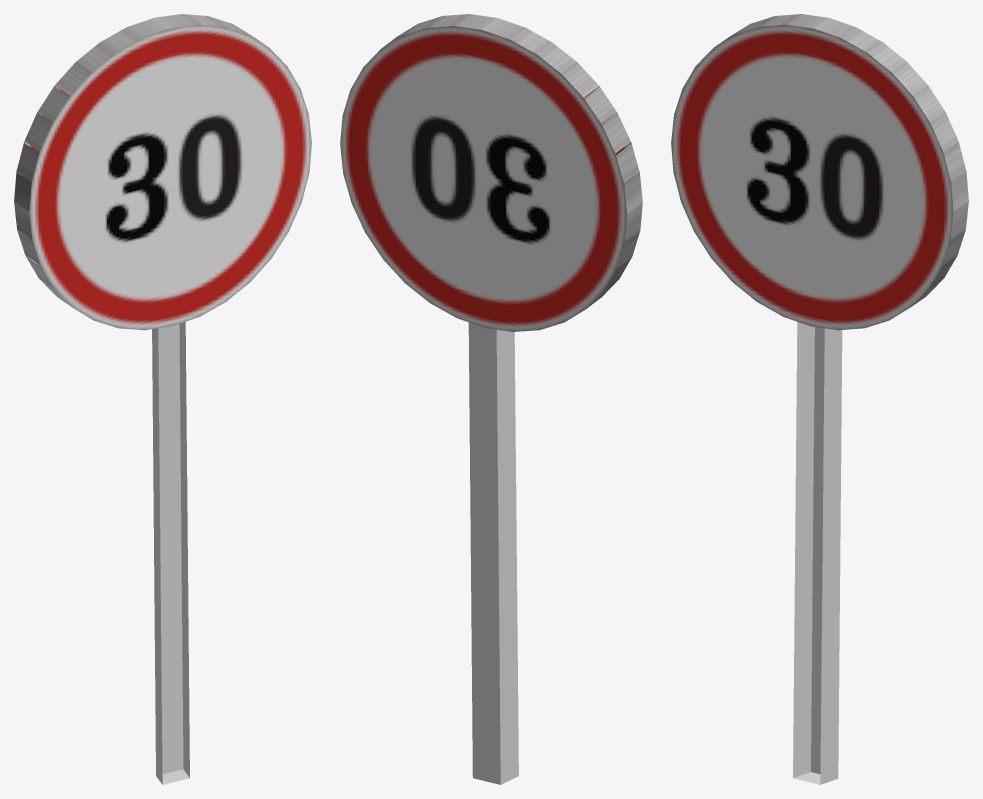
3 renders of one model, left to right at view 1: azimuth 30°, elevation 25°; view 2: azimuth 150°, elevation 25°; view 3: azimuth 330°, elevation 25°, orthographic.
Visible parts, largest first — view 1: Cycle, Xui; view 2: Cycle, Xui; view 3: Cycle, Xui.
Part boxes in pixels (x1,y1,x2,y2): Cycle: [14, 14, 311, 330]; Xui: [152, 322, 189, 784]; Cycle: [340, 14, 642, 331]; Xui: [468, 322, 518, 784]; Cycle: [671, 14, 968, 330]; Xui: [793, 322, 842, 784].
Bounding box in the file's own units: 0.2554 × 0.0352 × 0.6471.
1 material, 1 textured.
